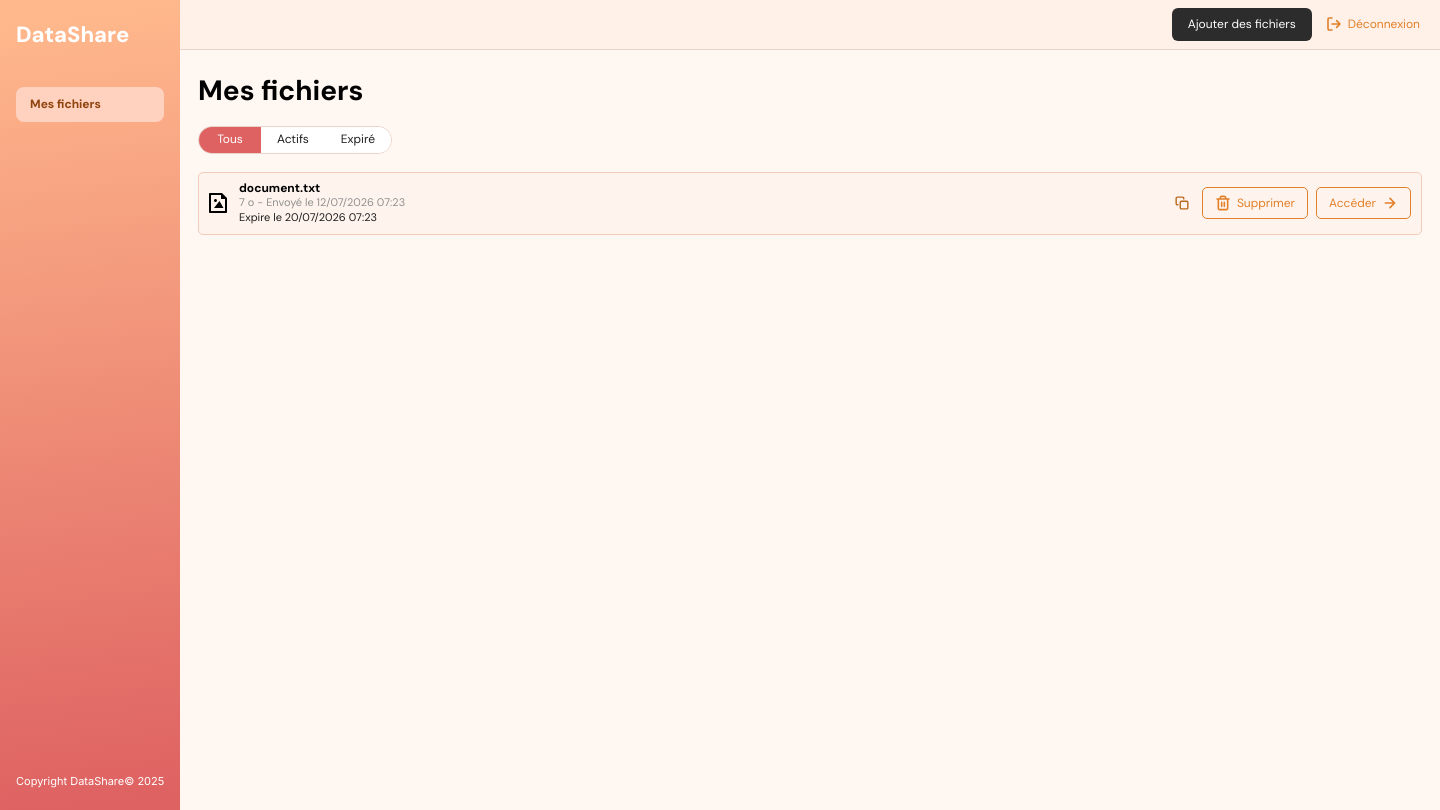
Test: Files › deletes a user file
Check: the heading "document.txt" is shown, box [239,180,320,196]
Click the button "Supprimer" at {"x": 1255, "y": 203}, box [1202,187,1308,219]
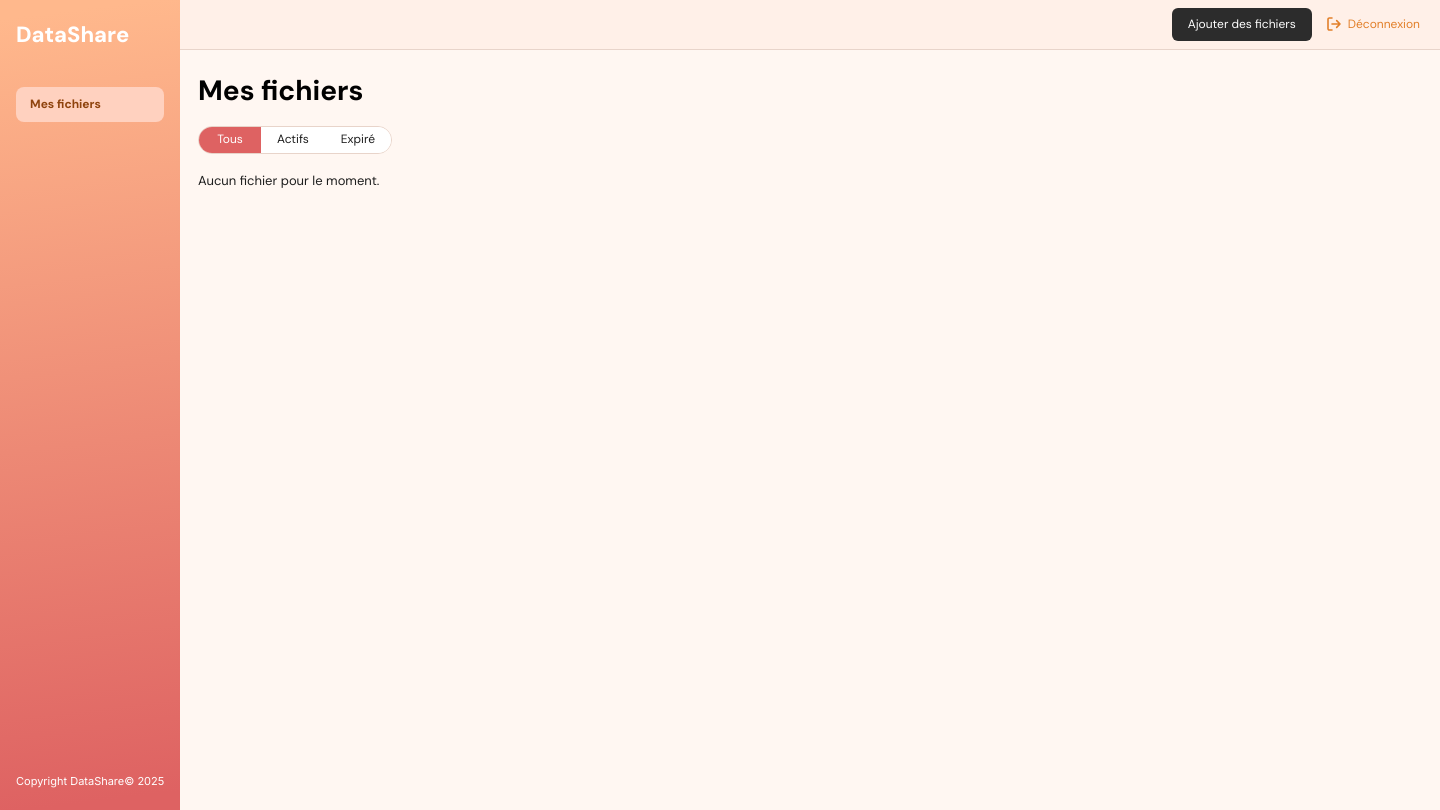
Check: the heading "document.txt" is gone
